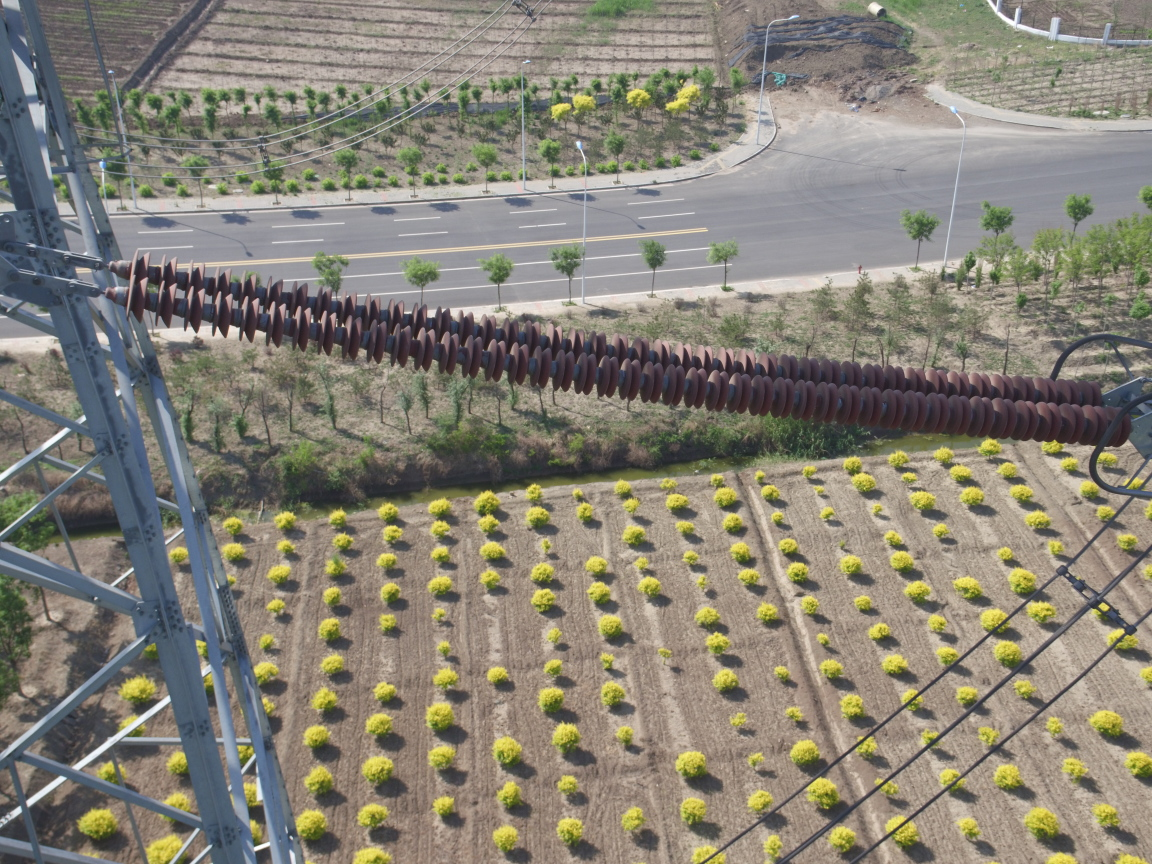insulator: (41, 242, 1152, 448)
